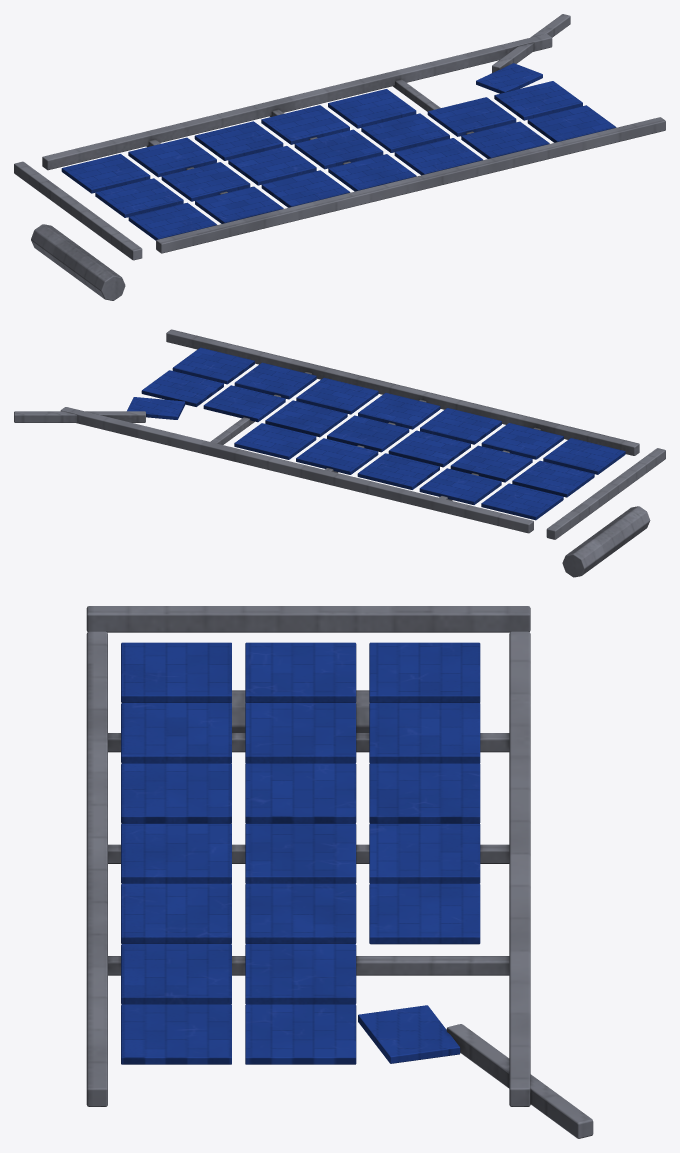
Rendered from debris_panel.glb.
The picture shows the model from 3 angles, top to bottom: view 1: azimuth 30°, elevation 25°; view 2: azimuth 150°, elevation 25°; view 3: azimuth 270°, elevation 25°; orthographic projection. The views are drawn at different scales.
Parts seen in each view (by area): view 1: Cells, Frame; view 2: Cells, Frame; view 3: Cells, Frame.
Part boxes in pixels (x1,y1,x2,y2): Cells: (61,63,616,240); Frame: (14,14,665,300); Cells: (127,347,625,520); Frame: (14,329,665,577); Cells: (121,642,480,1064); Frame: (86,606,593,1138).
Bounding box in the file's own units: 23.43 × 2.69 × 9.59.
Materials: 2 (2 with a texture image).
